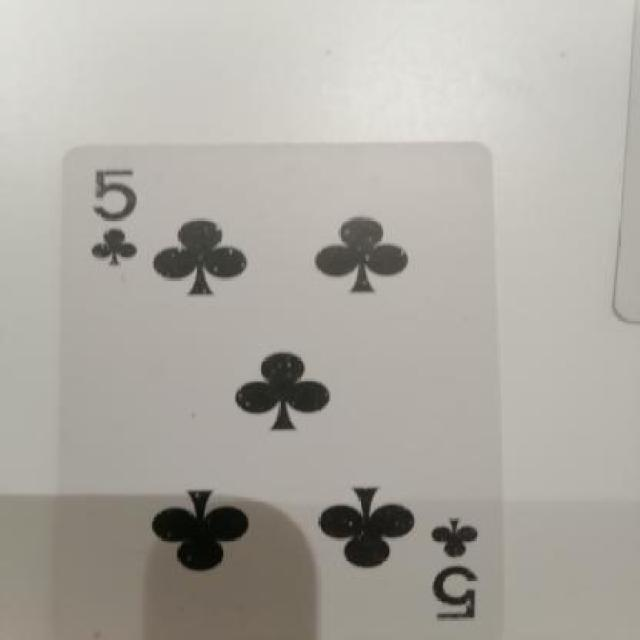5C: (69, 149, 163, 283), (430, 504, 504, 630)
